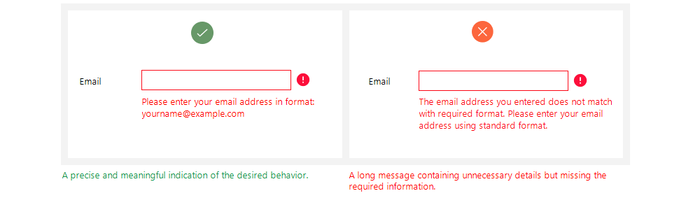error_field: (140, 69, 293, 91), (417, 70, 569, 91)
error_message: (418, 97, 614, 131), (349, 171, 611, 194), (140, 96, 317, 119)
